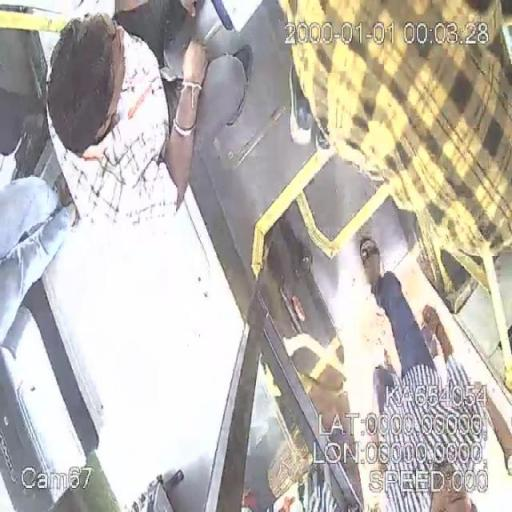persona: (358, 235, 510, 511), (358, 236, 491, 510), (44, 10, 210, 224)
